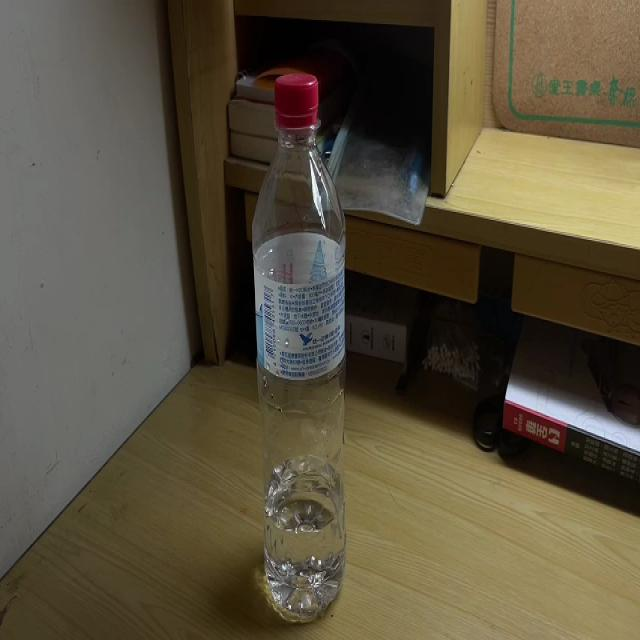Water: (252, 65, 347, 628)
